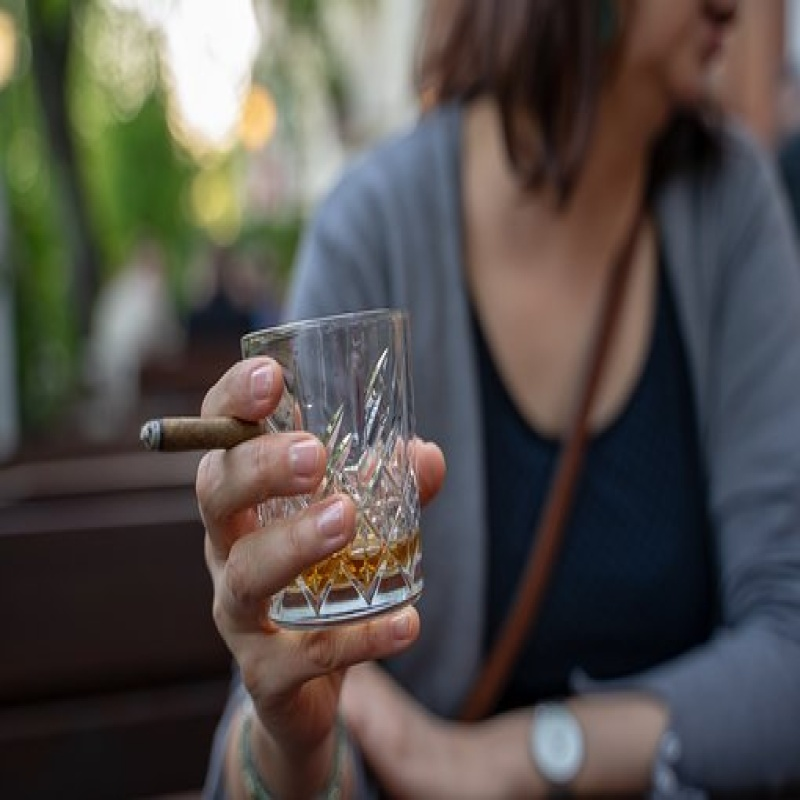whiskey: (234, 315, 445, 618)
